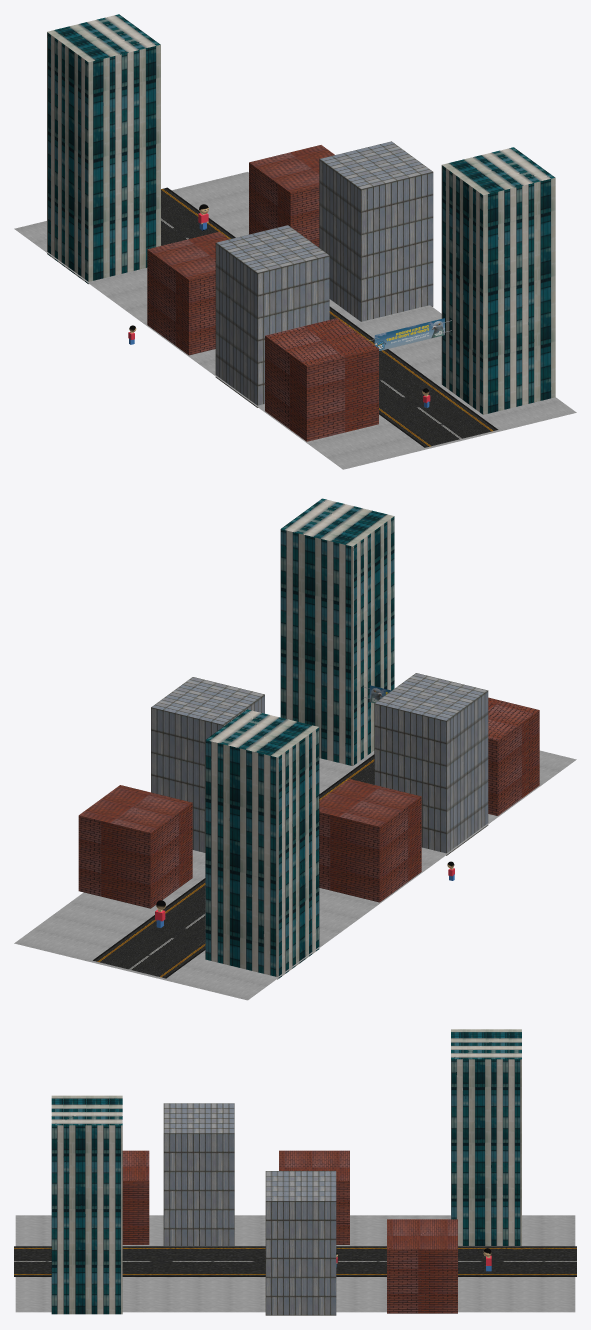
The model's file is mesto2_2.gltf.
The picture shows the model from 3 angles, top to bottom: view 1: azimuth 30°, elevation 25°; view 2: azimuth 150°, elevation 25°; view 3: azimuth 270°, elevation 25°; orthographic projection. The views are drawn at different scales.
Visible parts, largest first — view 1: bloki__levo.004, bloki_desno.004, cesta, bloki__levo.002, bloki_desno.002, bloki_desno.001, bloki_desno.003, bloki__levo.003, golob_ovira; view 2: bloki_desno.004, bloki__levo.004, cesta, bloki_desno.002, bloki__levo.003, bloki_desno.003, bloki__levo.002, bloki_desno.001; view 3: cesta, bloki__levo.004, bloki_desno.004, bloki__levo.002, bloki_desno.002, bloki__levo.003, bloki_desno.001, bloki_desno.003.
Part boxes in pixels (x1,y1,x2,y2): bloki__levo.004: (441, 147, 555, 414); bloki_desno.004: (47, 14, 160, 284); cesta: (14, 172, 576, 469); bloki__levo.002: (319, 141, 433, 321); bloki_desno.002: (215, 225, 329, 407); bloki_desno.001: (265, 318, 378, 441); bloki_desno.003: (147, 231, 229, 355); bloki__levo.003: (249, 145, 334, 247); golob_ovira: (369, 318, 451, 350); bloki_desno.004: (205, 709, 319, 979); bloki__levo.004: (280, 498, 394, 765); cesta: (14, 750, 576, 1000); bloki_desno.002: (374, 673, 488, 855); bloki__levo.003: (78, 785, 192, 908); bloki_desno.003: (319, 778, 421, 902); bloki__levo.002: (151, 677, 264, 852); bloki_desno.001: (488, 697, 539, 815); cesta: (14, 1215, 576, 1312); bloki__levo.004: (51, 1095, 122, 1314); bloki_desno.004: (451, 1029, 521, 1245); bloki__levo.002: (265, 1171, 336, 1315); bloki_desno.002: (163, 1103, 234, 1245); bloki__levo.003: (387, 1219, 457, 1313); bloki_desno.001: (122, 1150, 149, 1244); bloki_desno.003: (279, 1150, 349, 1244).
Bounding box in the file's own units: 11.23 × 8.41 × 22.73.
Materials: 25 (25 with a texture image).
